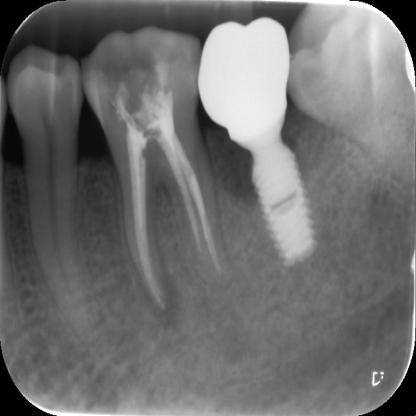Bicon: (242, 134, 328, 290)
